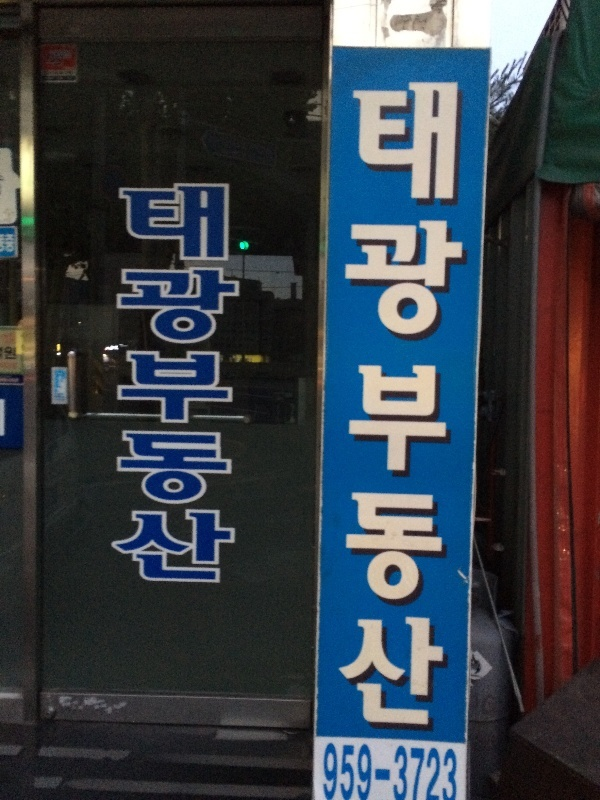text: (353, 79, 368, 739), (369, 79, 384, 739), (385, 79, 400, 739), (401, 79, 416, 739), (417, 79, 432, 739), (433, 79, 448, 739), (449, 79, 464, 739), (129, 175, 144, 595), (145, 175, 160, 595), (161, 175, 176, 595), (177, 175, 192, 595), (193, 175, 208, 595), (209, 175, 224, 595), (225, 175, 240, 595), (465, 79, 471, 739), (120, 175, 128, 595), (350, 79, 352, 739), (337, 742, 352, 800), (353, 742, 368, 800), (369, 742, 384, 800), (385, 742, 400, 800), (401, 742, 416, 800), (417, 742, 432, 800), (433, 742, 448, 800), (324, 742, 336, 800), (449, 742, 457, 800), (241, 175, 242, 595), (1, 233, 16, 255), (4, 345, 16, 361)
